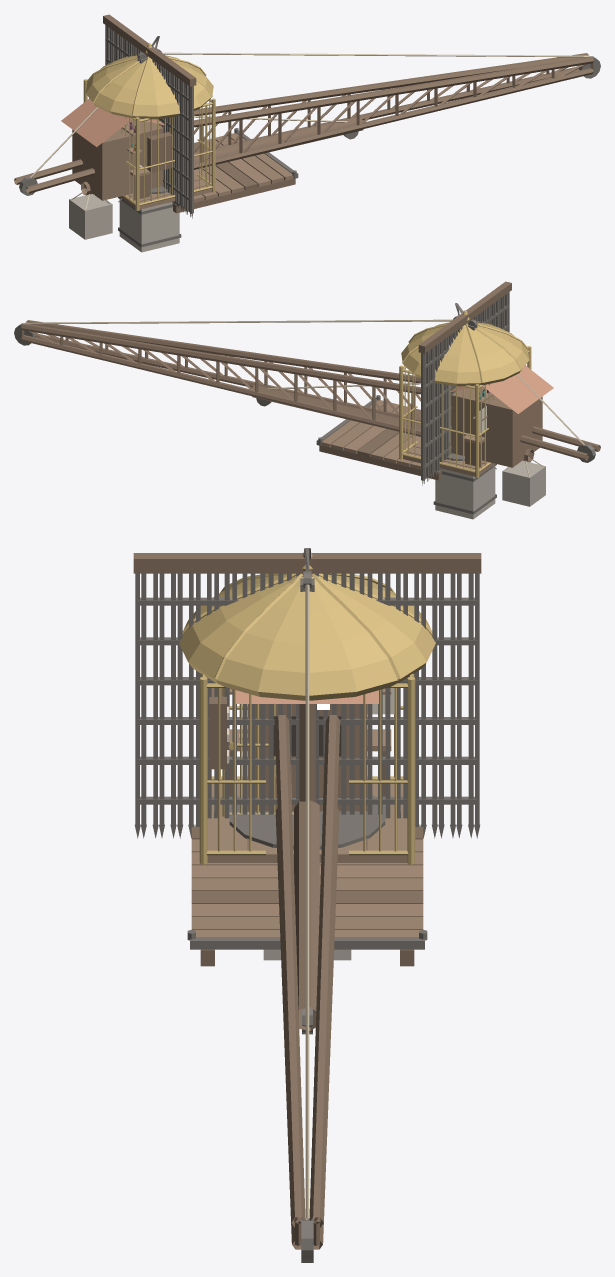
File: rigs.glb
The picture shows the model from 3 angles, top to bottom: view 1: azimuth 30°, elevation 25°; view 2: azimuth 150°, elevation 25°; view 3: azimuth 270°, elevation 25°; orthographic projection. The views are drawn at different scales.
Parts seen in each view (by area): view 1: crane_jib__wood_dark, cage__brass, crane_jib__wood, gate1__iron, leaf__wood, counterweight__mortar, gate3__iron, crane_jib__roof, boom__mortar, leaf__wood_dark, boom__wood_dark, crane_jib__rope (+5 smaller); view 2: crane_jib__wood_dark, cage__brass, crane_jib__wood, gate1__iron, leaf__wood, counterweight__mortar, gate3__iron, crane_jib__roof, boom__mortar, leaf__wood_dark, crane_jib__rope, boom__wood_dark (+6 smaller); view 3: cage__brass, gate1__iron, crane_jib__wood_dark, gate3__iron, leaf__wood, gate1__wood_dark, cage__wood, boom__wood_dark, crane_jib__iron, crane_jib__rope, gate3__wood_dark, leaf__wood_dark (+5 smaller).
Part boxes in pixels (x1,y1,x2,y2): crane_jib__wood_dark: [14, 53, 593, 193]; cage__brass: [83, 43, 215, 210]; crane_jib__wood: [72, 119, 163, 200]; gate1__iron: [105, 25, 193, 218]; leaf__wood: [194, 133, 293, 202]; counterweight__mortar: [119, 199, 179, 252]; gate3__iron: [107, 26, 190, 216]; crane_jib__roof: [61, 98, 164, 146]; boom__mortar: [69, 194, 112, 239]; leaf__wood_dark: [173, 142, 295, 213]; boom__wood_dark: [81, 117, 363, 195]; crane_jib__rope: [30, 52, 589, 177]; crane_jib__wood_dark: [21, 320, 600, 460]; cage__brass: [399, 310, 531, 477]; crane_jib__wood: [451, 386, 542, 467]; gate1__iron: [421, 292, 509, 485]; leaf__wood: [321, 400, 420, 469]; counterweight__mortar: [435, 466, 495, 519]; gate3__iron: [424, 293, 507, 483]; crane_jib__roof: [450, 365, 553, 413]; boom__mortar: [502, 460, 545, 506]; leaf__wood_dark: [319, 409, 441, 480]; crane_jib__rope: [25, 319, 584, 444]; boom__wood_dark: [252, 385, 534, 462]; cage__brass: [177, 552, 437, 864]; gate1__iron: [134, 573, 480, 838]; crane_jib__wood_dark: [274, 570, 340, 1249]; gate3__iron: [141, 573, 473, 838]; leaf__wood: [191, 839, 423, 936]; gate1__wood_dark: [133, 553, 481, 573]; cage__wood: [207, 688, 407, 862]; boom__wood_dark: [294, 800, 319, 1030]; crane_jib__iron: [229, 792, 385, 1262]; crane_jib__rope: [305, 584, 309, 1220]; gate3__wood_dark: [140, 553, 474, 573]; leaf__wood_dark: [191, 826, 423, 966].
Size of the model in its own units: 16.75 by 5.59 by 4.35.
